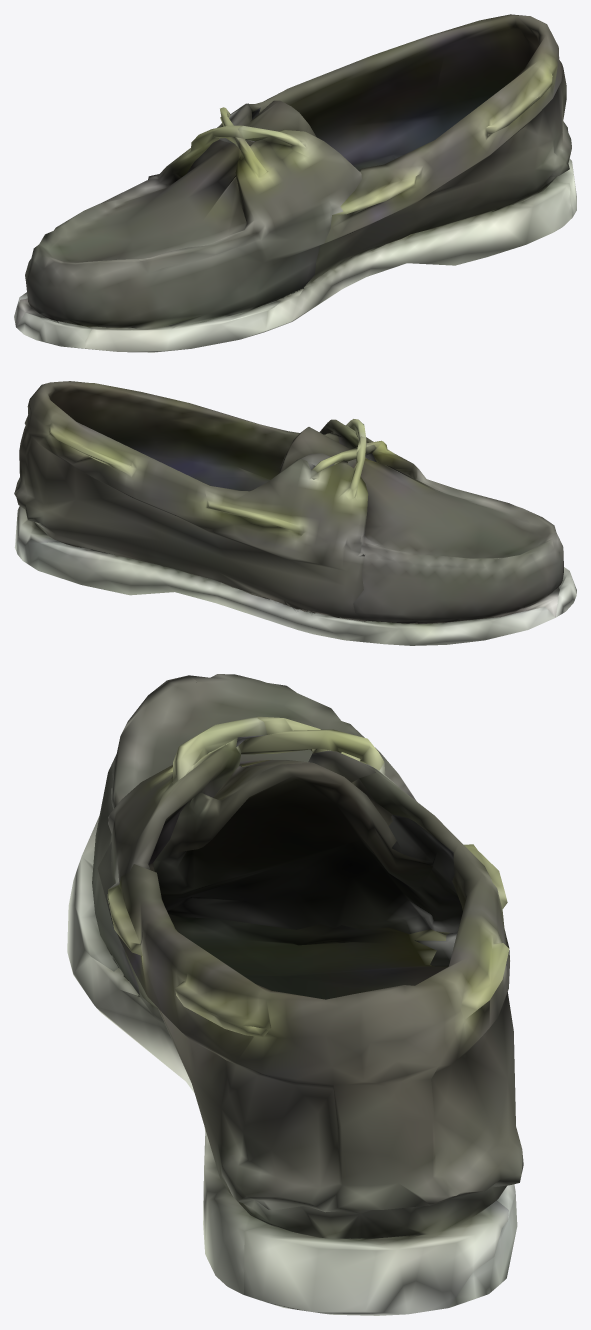
The model's file is Womens_Authentic_Original_Boat_Shoe_in_Classic_Brown_Leather-medium.glb.
3 views of the same model, one above another, from view 1: azimuth 30°, elevation 25°; view 2: azimuth 150°, elevation 25°; view 3: azimuth 270°, elevation 25° (orthographic). The views are drawn at different scales.
Parts seen in each view (by area): view 1: Womens_Authentic_Original_Boat_Shoe_in_Classic_Brown_Leather; view 2: Womens_Authentic_Original_Boat_Shoe_in_Classic_Brown_Leather; view 3: Womens_Authentic_Original_Boat_Shoe_in_Classic_Brown_Leather.
Boxes of the visible parts, left/top/right/bottom form: Womens_Authentic_Original_Boat_Shoe_in_Classic_Brown_Leather: left=14, top=14, right=576, bottom=352; Womens_Authentic_Original_Boat_Shoe_in_Classic_Brown_Leather: left=14, top=381, right=576, bottom=645; Womens_Authentic_Original_Boat_Shoe_in_Classic_Brown_Leather: left=67, top=674, right=523, bottom=1315.
Bounding box in the file's own units: 0.2444 × 0.0732 × 0.0949.
Materials: 1 (1 with a texture image).
